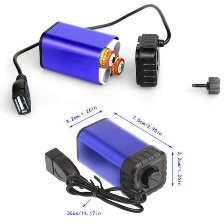battery: (42, 33, 117, 70), (42, 49, 114, 87), (53, 42, 127, 76), (55, 23, 123, 58)
